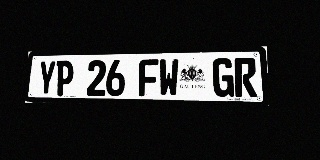2: (87, 60, 106, 96)
6: (106, 60, 125, 96)
F: (138, 59, 158, 96)
G: (212, 58, 234, 97)
P: (55, 60, 74, 96)
R: (234, 58, 257, 97)
W: (159, 59, 179, 97)
Y: (37, 61, 56, 96)
